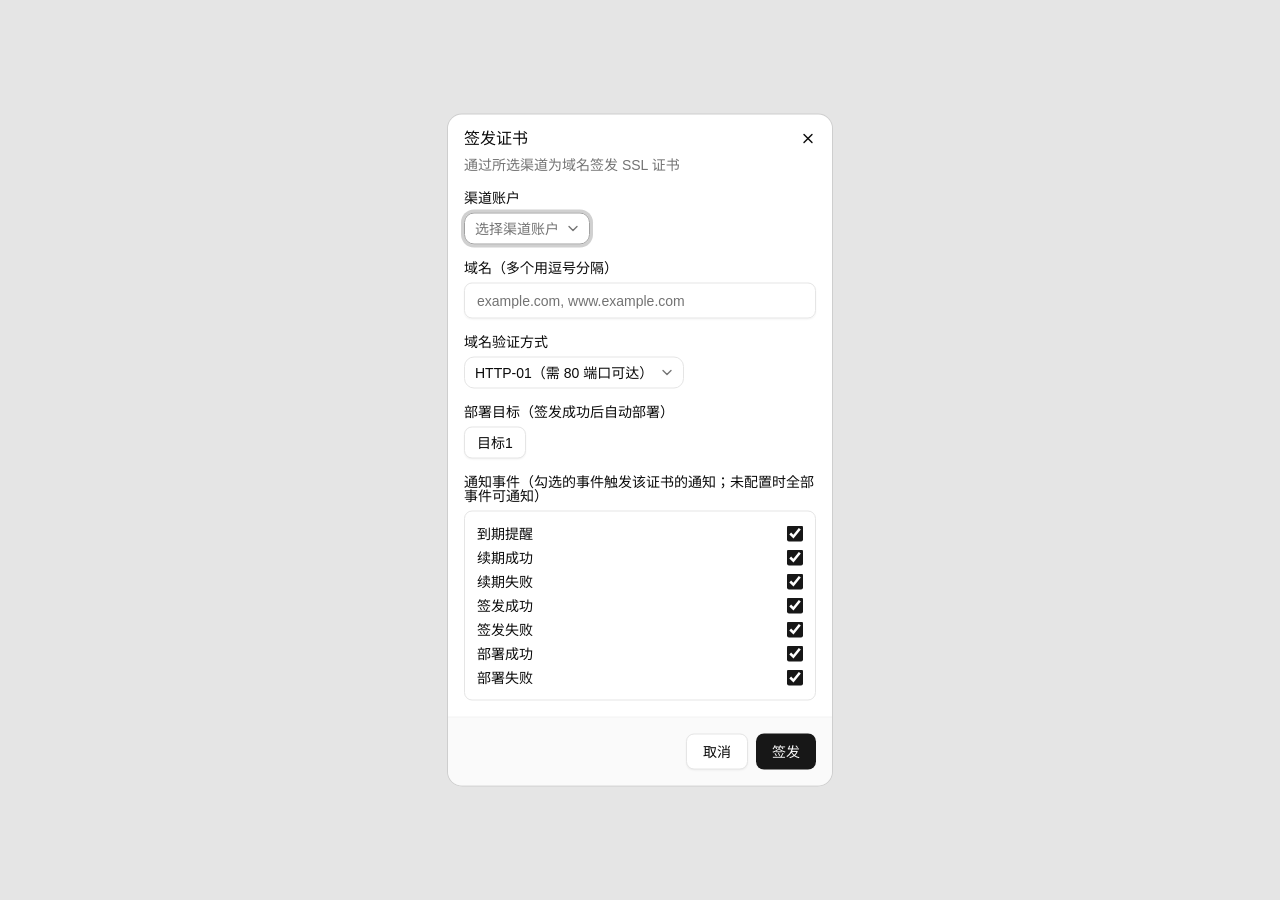
Test: IssueDialog CSR 模式与表单逻辑 › 选择 ACME 账户后显示 CSR 开关，选择云厂商账户则隐藏并显示申请人区
expect the heading "签发证书" is shown: met, box [464, 130, 528, 146]
Step 1. Click the dropdown labelled "选择渠道账户 ▼" → [527, 228], box [464, 212, 590, 244]
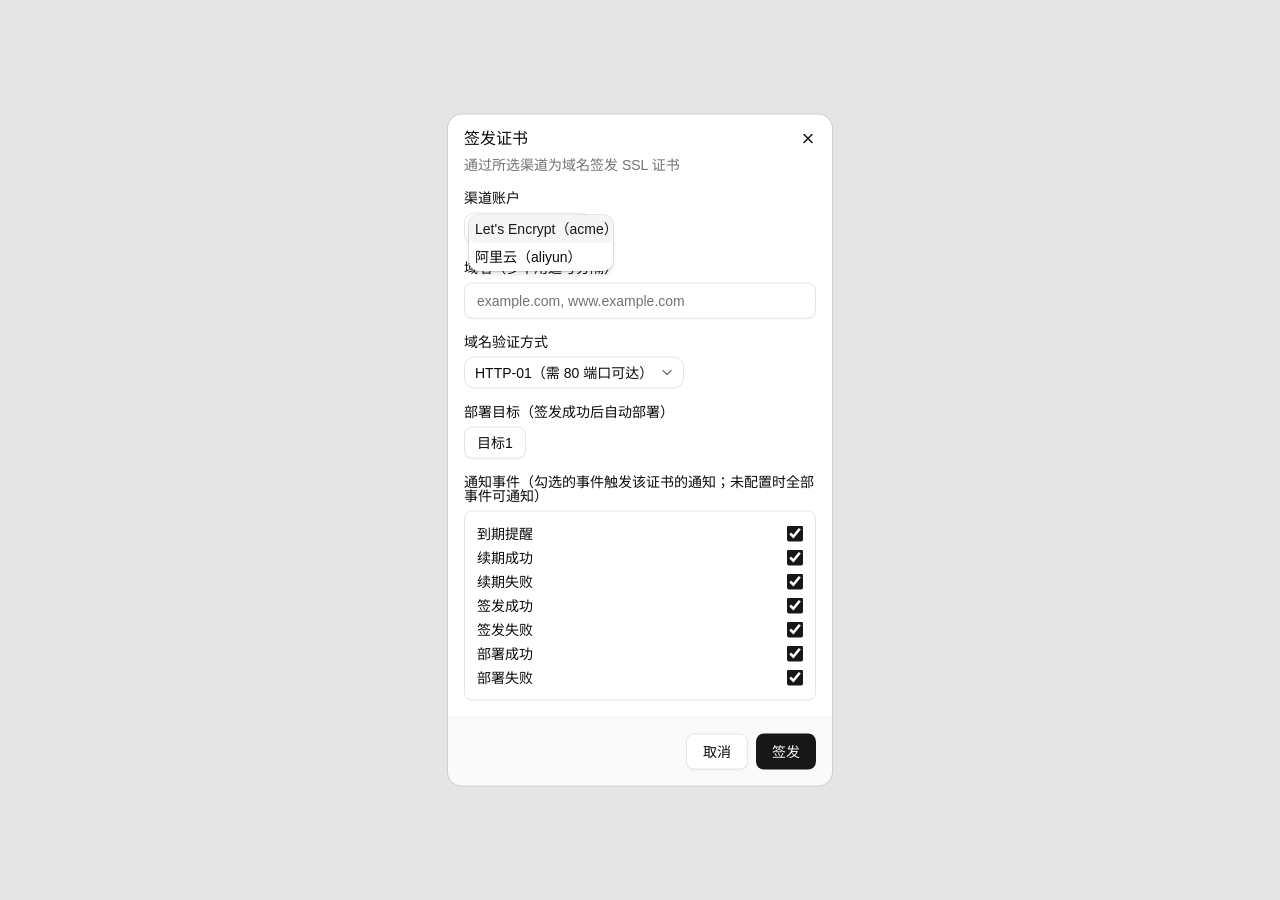
Step 2. Click the option "Let's Encrypt（acme）" → [541, 228], box [469, 214, 613, 242]
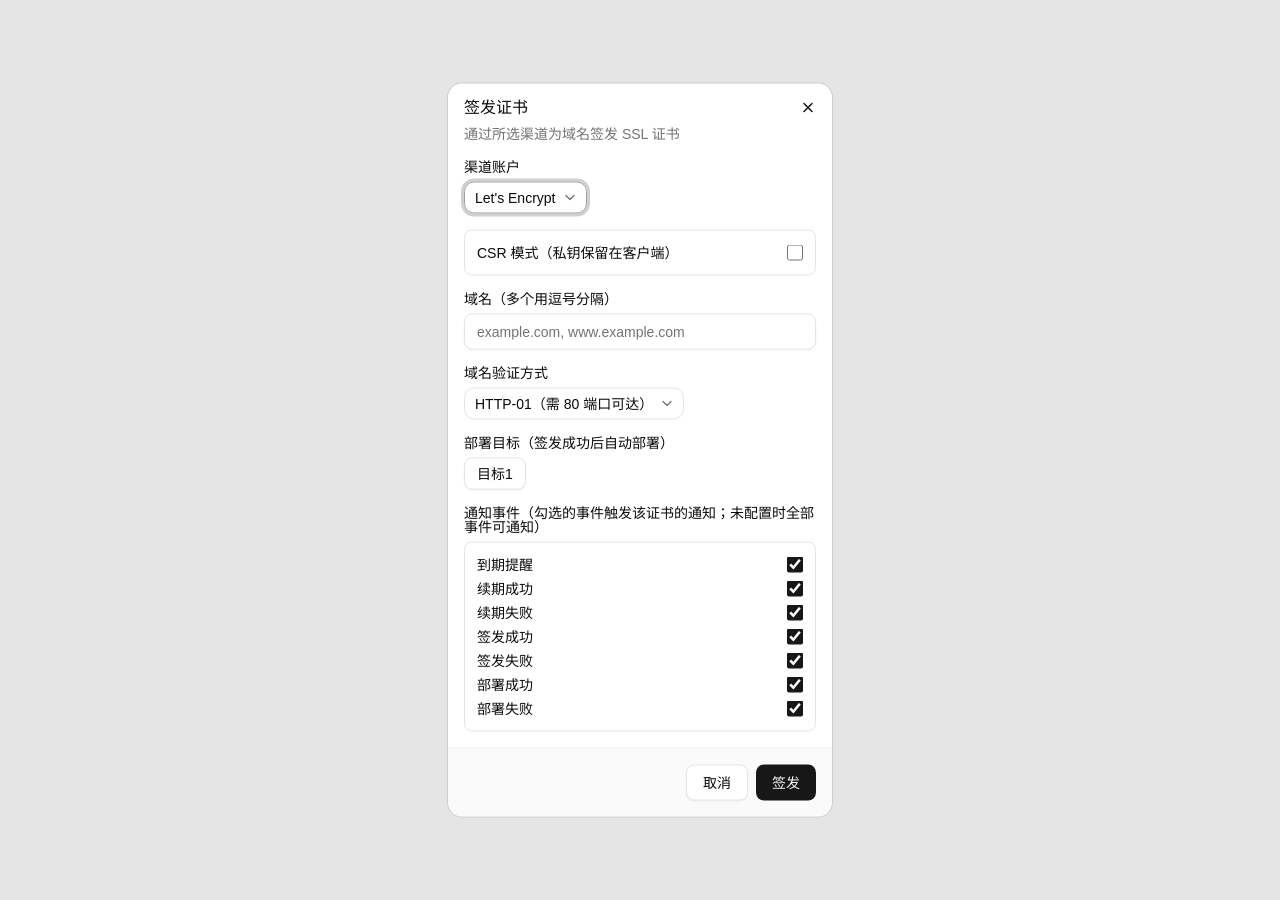
expect the text "CSR 模式（私钥保留在客户端）" is shown: met, box [477, 244, 678, 260]
Step 3. Click the dropdown labelled "Let's Encrypt ▼" → [525, 198], box [464, 182, 586, 214]
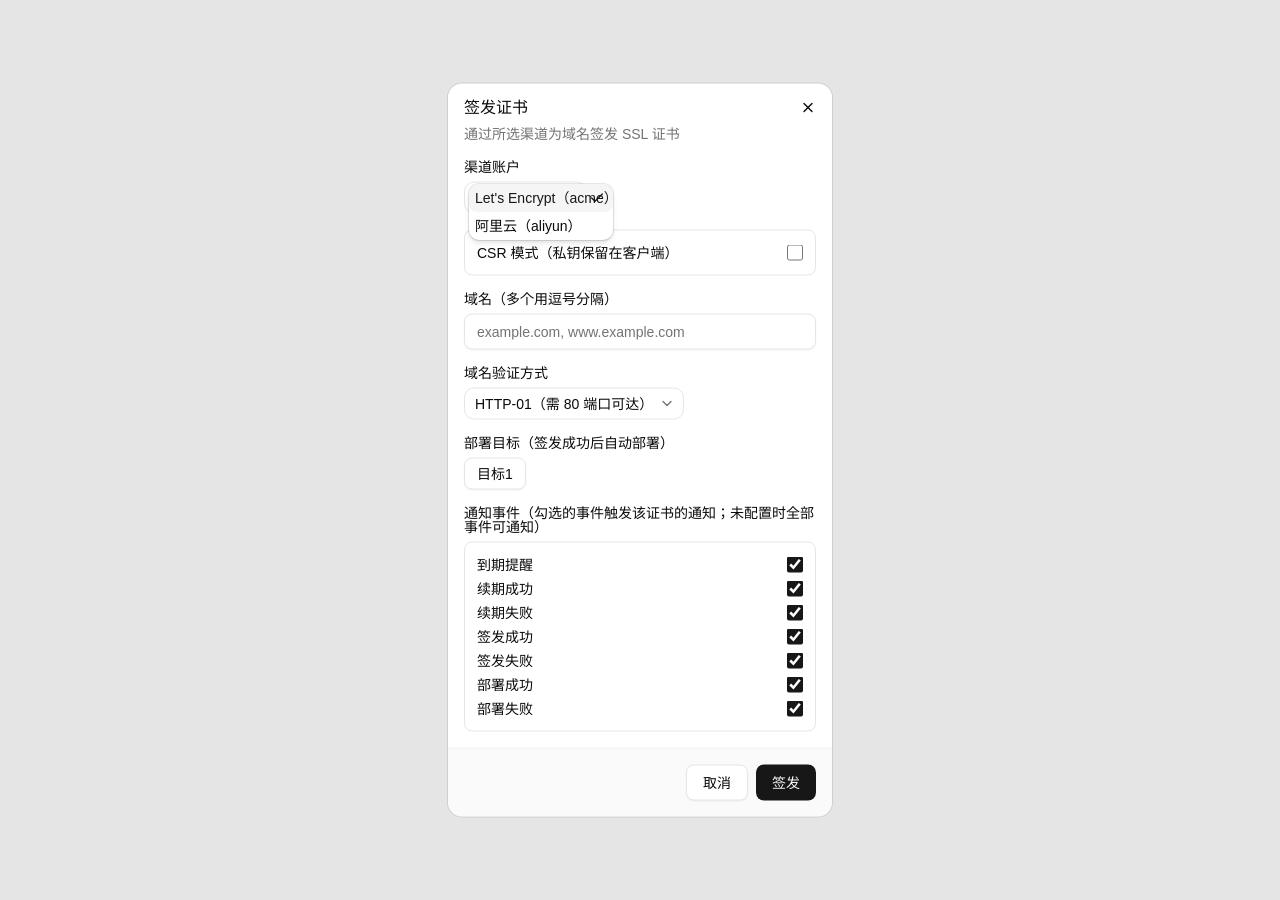
Step 4. Click the option "阿里云（aliyun）" → [528, 226], box [475, 218, 582, 234]
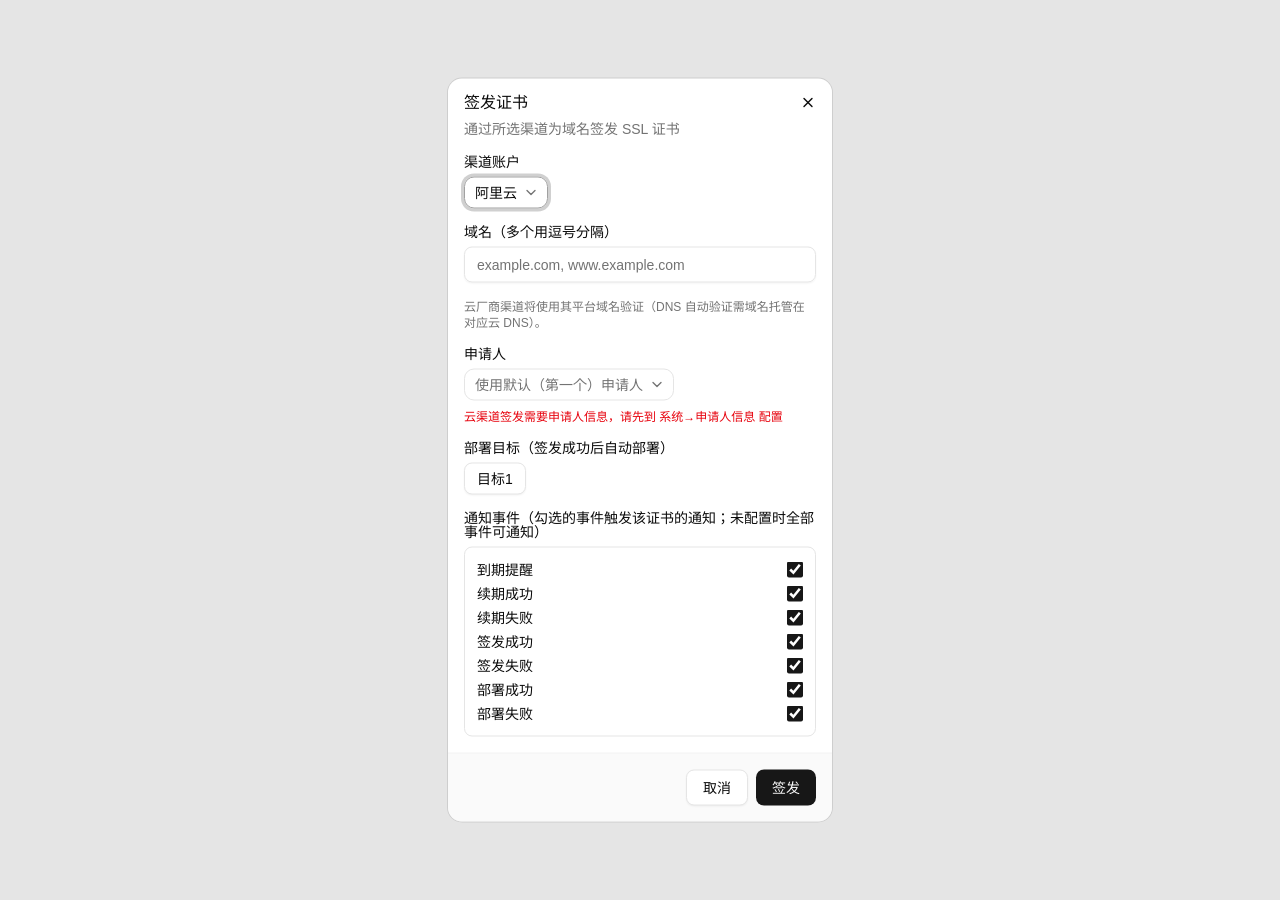
expect the text "CSR 模式（私钥保留在客户端）" is gone: met
expect the text "申请人" is shown: met, box [464, 346, 506, 362]
